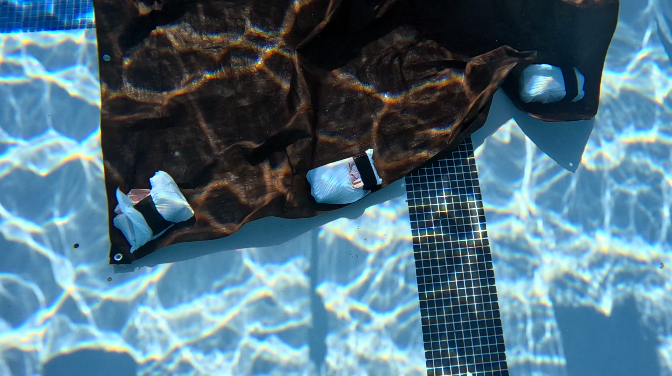sandbag: (93, 0, 619, 264)
